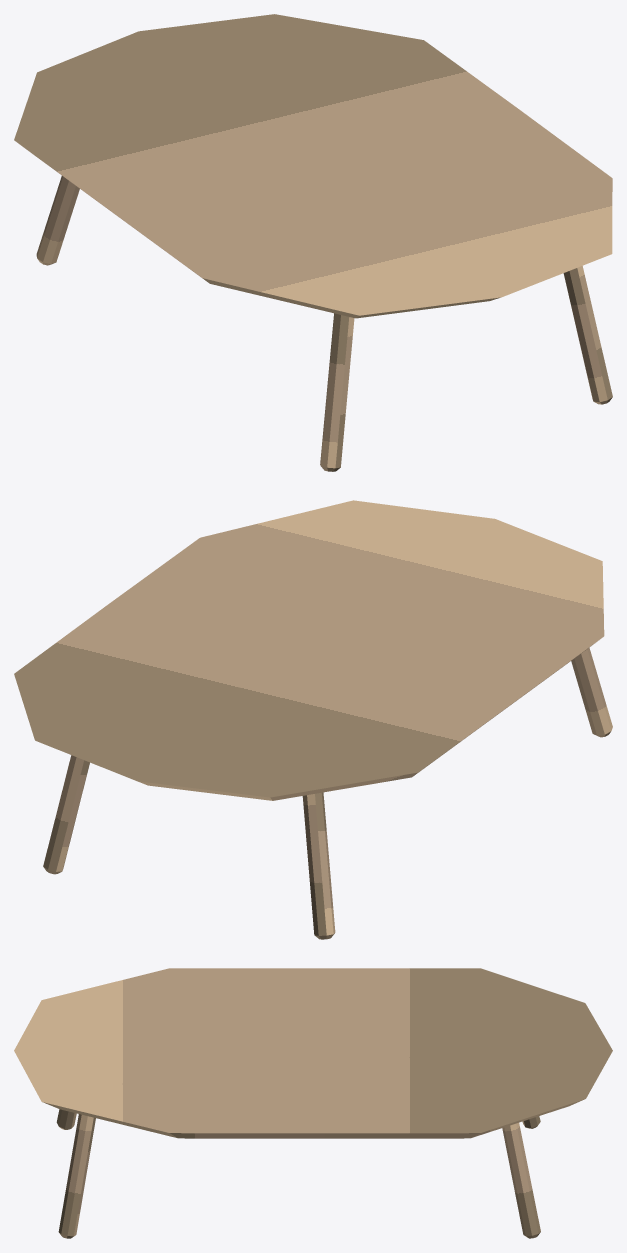
The model's file is Accesories_Coffee_Table_A.glb.
3 views of the same model, one above another, from view 1: azimuth 30°, elevation 25°; view 2: azimuth 150°, elevation 25°; view 3: azimuth 270°, elevation 25° (orthographic). The views are drawn at different scales.
Parts seen in each view (by area): view 1: Accesories_Coffee_Table_A; view 2: Accesories_Coffee_Table_A; view 3: Accesories_Coffee_Table_A.
Part boxes in pixels (<box>): Accesories_Coffee_Table_A: <box>14,14,612,471</box>; Accesories_Coffee_Table_A: <box>14,500,612,939</box>; Accesories_Coffee_Table_A: <box>14,968,612,1238</box>.
Bounding box in the file's own units: 0.8542 × 0.3239 × 1.31.
Materials: 1 (1 with a texture image).
